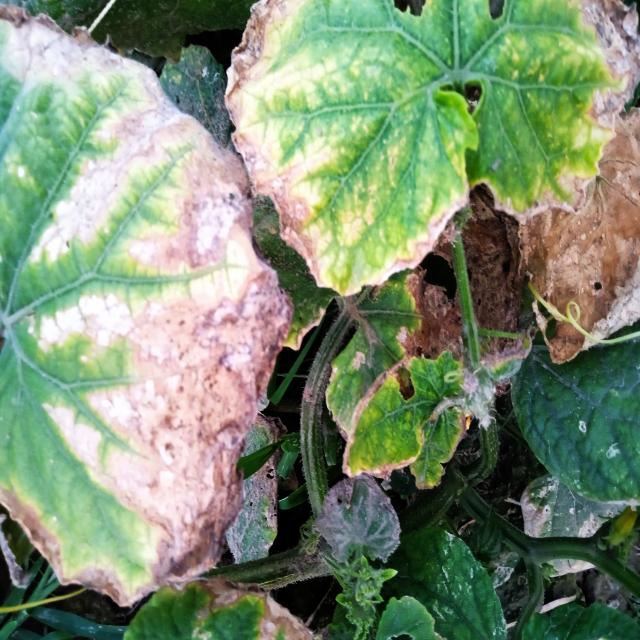Gummy-Stem-Blight: (1, 5, 296, 606), (222, 0, 330, 286)
